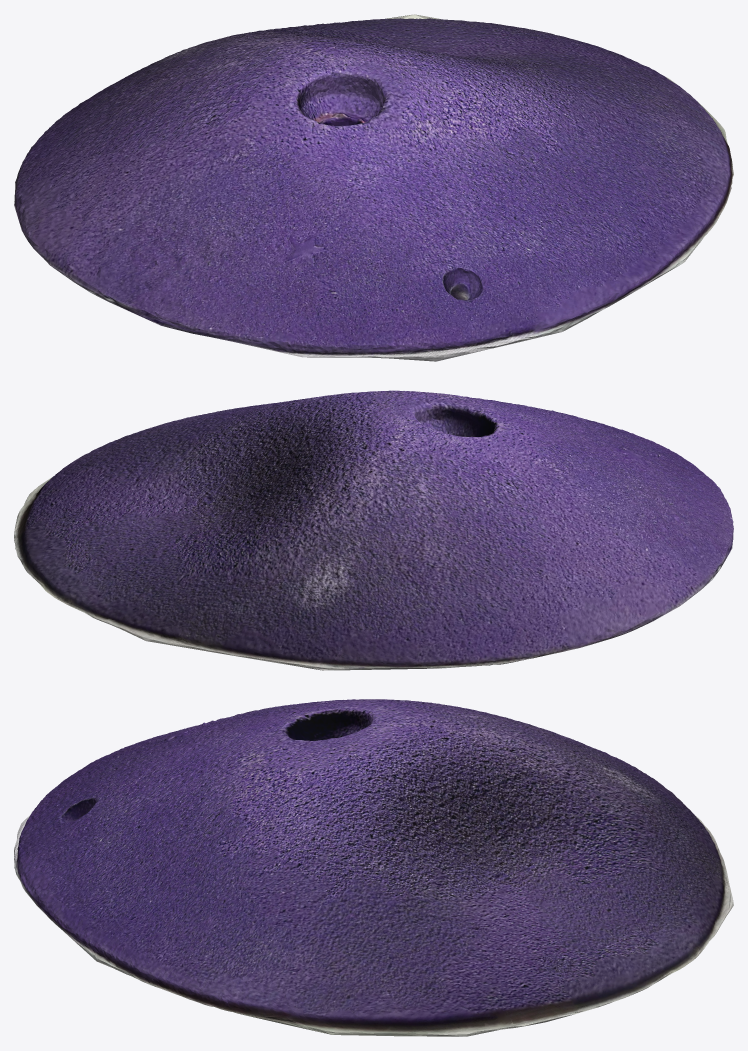
The model's file is Teknik_NoShadowHands_1_5_num5.glb.
3 renders of one model, top to bottom at view 1: azimuth 30°, elevation 25°; view 2: azimuth 150°, elevation 25°; view 3: azimuth 270°, elevation 25°, orthographic. The views are drawn at different scales.
Size of the model in its own units: 0.906 by 0.1921 by 0.8708.
Materials: 1 (1 with a texture image).
